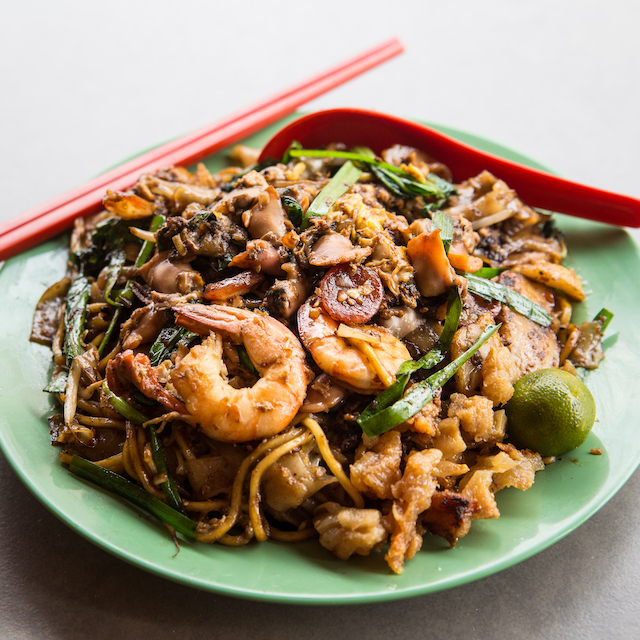Char Kway Teow: (47, 119, 604, 561)
